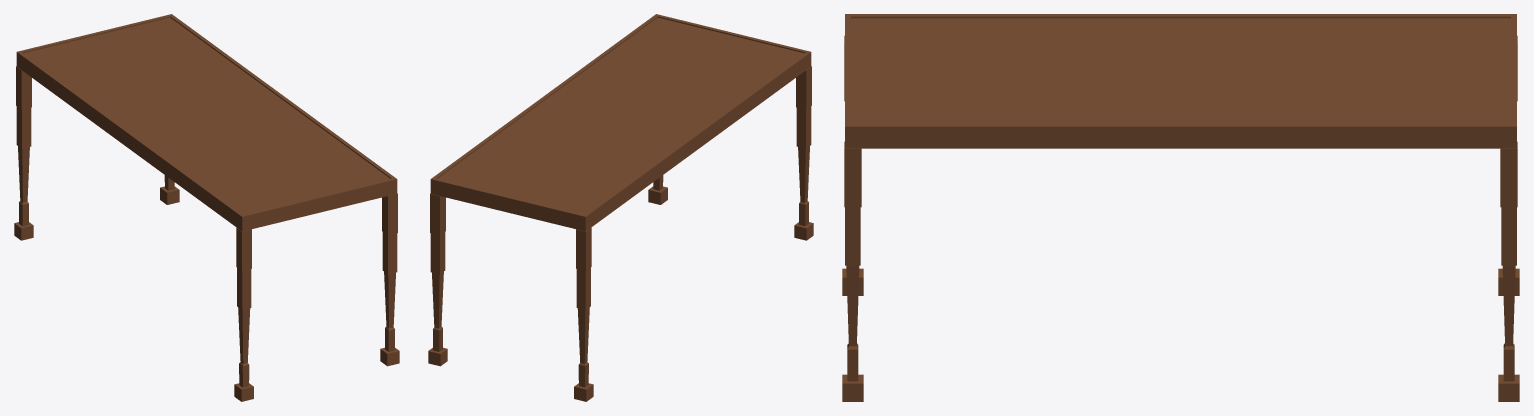
Rendered from Table.fbx.
3 renders of one model, left to right at view 1: azimuth 30°, elevation 25°; view 2: azimuth 150°, elevation 25°; view 3: azimuth 270°, elevation 25°, orthographic. The views are drawn at different scales.
Parts seen in each view (by area): view 1: Cube, Cube.001, Cube.002, Cube.004, Cube.003; view 2: Cube, Cube.003, Cube.004, Cube.002, Cube.001; view 3: Cube, Cube.001, Cube.003.
Boxes of the visible parts, box(x1,y1,x2,y2) form: Cube: box(16, 14, 397, 231); Cube.001: box(380, 193, 399, 366); Cube.002: box(234, 227, 253, 401); Cube.004: box(14, 66, 33, 240); Cube.003: box(160, 175, 179, 204); Cube: box(430, 14, 811, 231); Cube.003: box(428, 193, 447, 366); Cube.004: box(574, 227, 593, 401); Cube.002: box(794, 66, 813, 240); Cube.001: box(648, 175, 667, 204); Cube: box(845, 14, 1516, 148); Cube.001: box(842, 141, 863, 401); Cube.003: box(1498, 141, 1519, 401).
Size of the model in its own units: 81.01 by 90 by 202.
